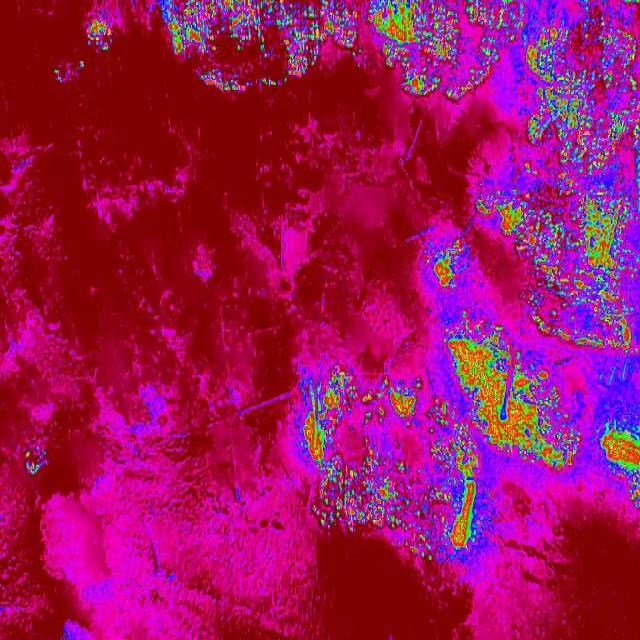fire: (300, 362, 493, 572), (370, 0, 640, 96), (444, 324, 584, 474), (479, 168, 640, 257), (161, 0, 315, 91), (521, 258, 640, 364), (517, 96, 640, 168), (596, 413, 640, 511), (315, 0, 370, 66), (424, 234, 478, 294), (84, 16, 115, 52)
